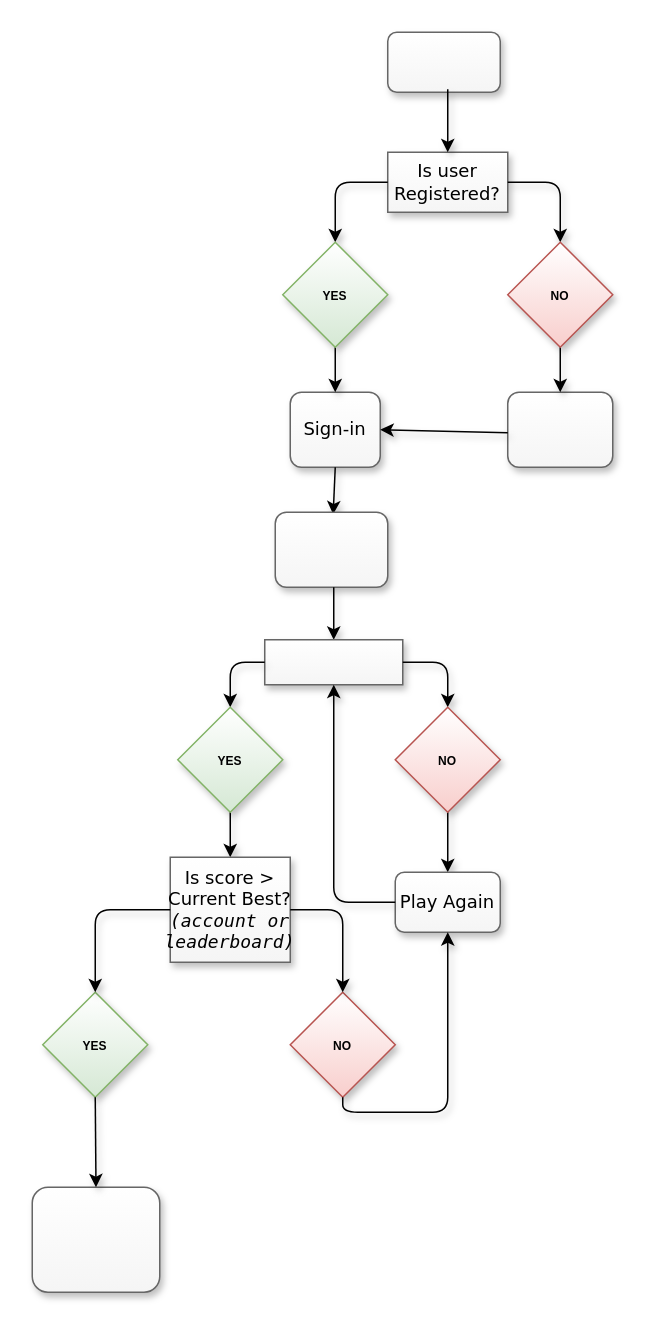
This 648x1329 diagram has some shape labels left out. Here are the shapes that lost their labels. From the top down, the centre of each, then its label:
At point (444, 64): "PLAYER".
At point (561, 431): "Create Account".
At point (332, 551): "Play Game & Get Score".
At point (334, 663): "Is score > 0?".
At point (97, 1241): "Update Account or Leaderboard".
